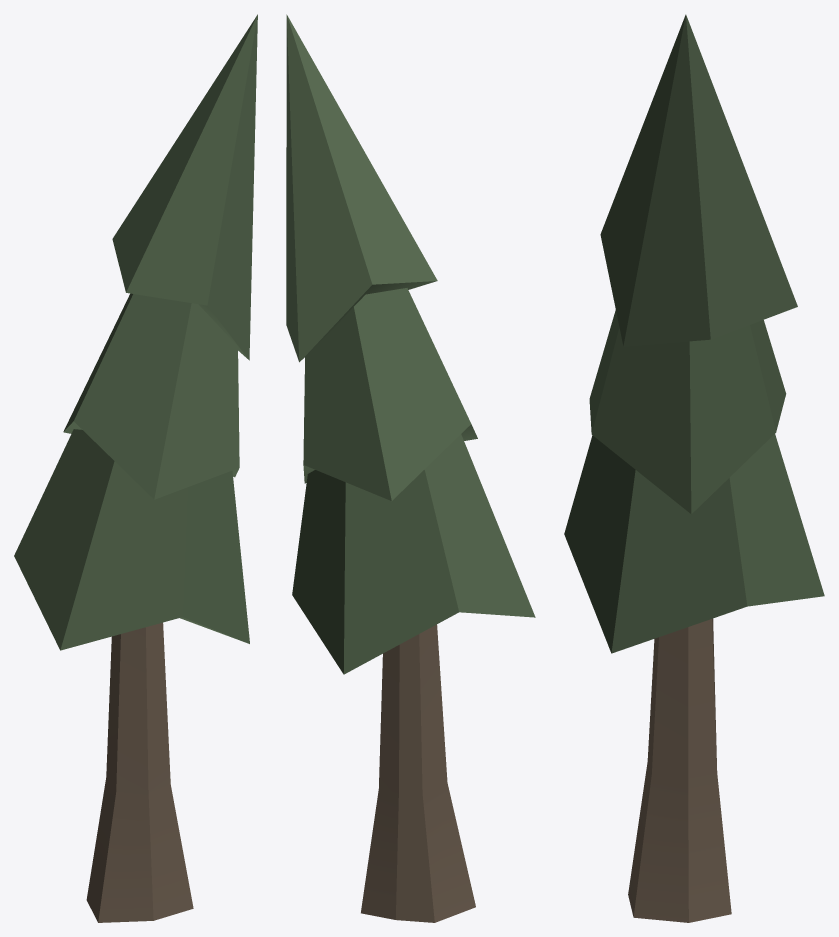
Rendered from PineTreeSmall_Mesh.fbx.
The picture shows the model from 3 angles, left to right: view 1: azimuth 30°, elevation 25°; view 2: azimuth 150°, elevation 25°; view 3: azimuth 270°, elevation 25°; orthographic projection. The views are drawn at different scales.
Parts seen in each view (by area): view 1: PineTreeSmall_Mesh; view 2: PineTreeSmall_Mesh; view 3: PineTreeSmall_Mesh.
Boxes of the visible parts, x1,y1,x2,y2 form: PineTreeSmall_Mesh: (14,14,257,922); PineTreeSmall_Mesh: (286,14,535,922); PineTreeSmall_Mesh: (564,14,824,922).
Bounding box in the file's own units: 71.37 × 262 × 65.1.
